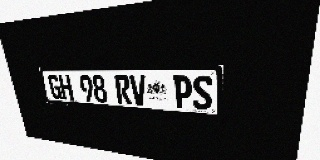8: (91, 75, 108, 103)
9: (78, 75, 95, 102)
G: (47, 74, 63, 100)
H: (58, 75, 74, 100)
P: (173, 75, 192, 109)
R: (114, 75, 132, 105)
S: (192, 76, 213, 110)
V: (129, 75, 147, 106)
